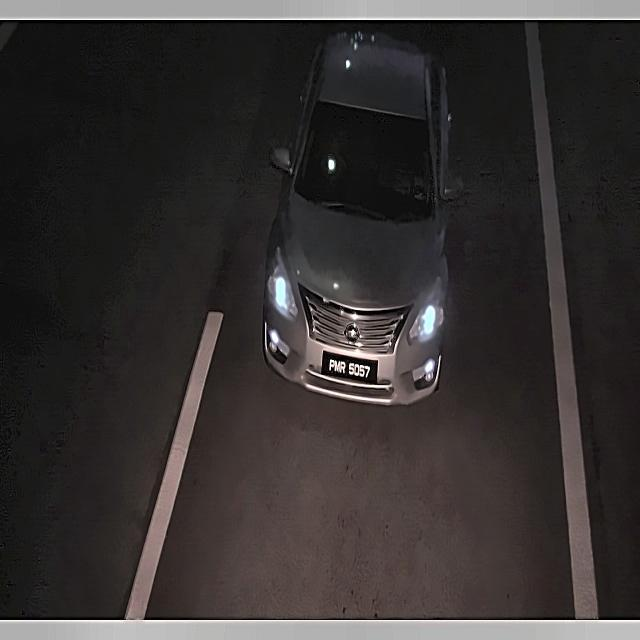car: (319, 337, 383, 394)
